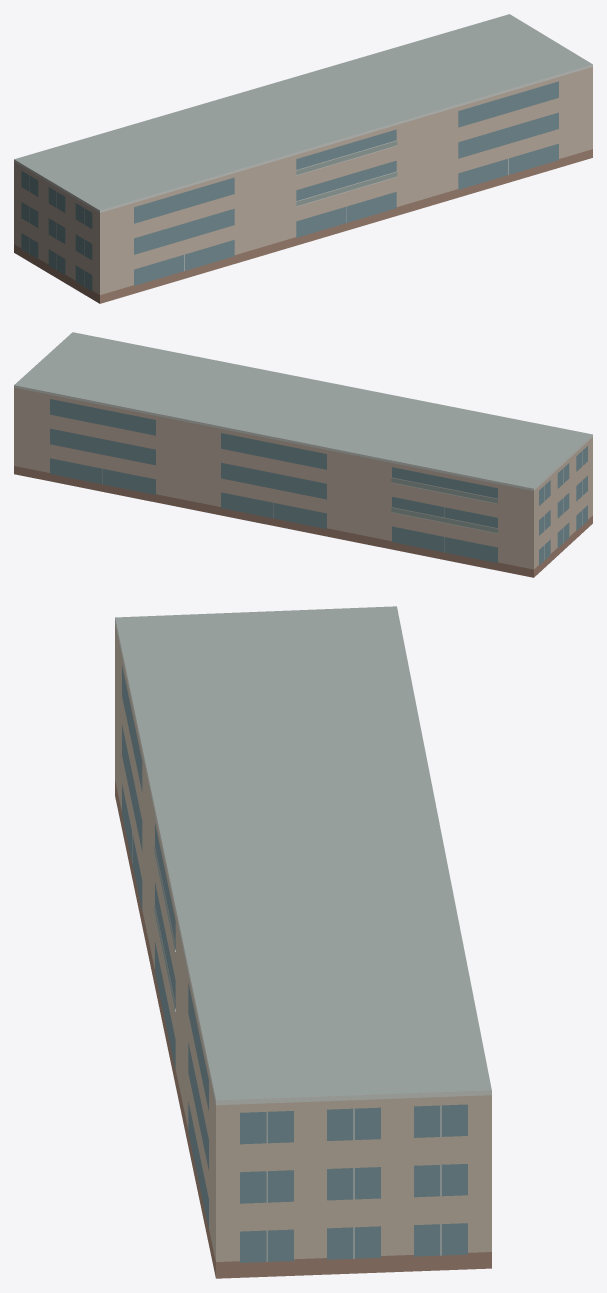
Rendered from survey-upis-32921168.glb.
The picture shows the model from 3 angles, top to bottom: view 1: azimuth 30°, elevation 25°; view 2: azimuth 150°, elevation 25°; view 3: azimuth 270°, elevation 25°; orthographic projection. The views are drawn at different scales.
Visible parts, largest first — view 1: survey-upis-32921168.tmp; view 2: survey-upis-32921168.tmp; view 3: survey-upis-32921168.tmp.
Part boxes in pixels (x1,y1,x2,y2): survey-upis-32921168.tmp: [14, 14, 592, 303]; survey-upis-32921168.tmp: [14, 332, 592, 577]; survey-upis-32921168.tmp: [115, 606, 491, 1278].
Bounding box in the file's own units: 54.48 × 9.15 × 17.56.
